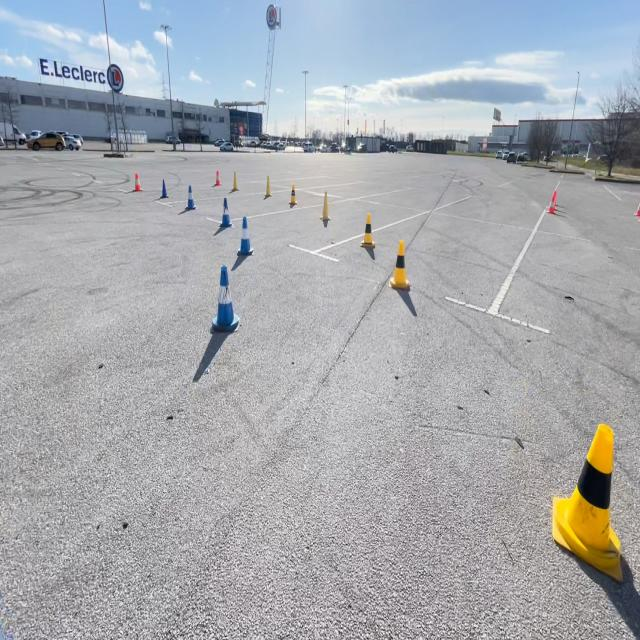blue_cone: (209, 262, 240, 332), (234, 214, 254, 257)
orange_cone: (132, 170, 142, 191), (548, 189, 556, 213), (635, 178, 639, 217), (214, 168, 222, 186)
yellow_cone: (552, 419, 621, 582), (388, 239, 411, 290), (359, 211, 376, 248), (217, 196, 232, 228), (319, 188, 331, 226), (184, 183, 196, 210), (158, 178, 169, 200), (263, 174, 273, 198), (288, 182, 298, 206), (230, 168, 239, 192)
